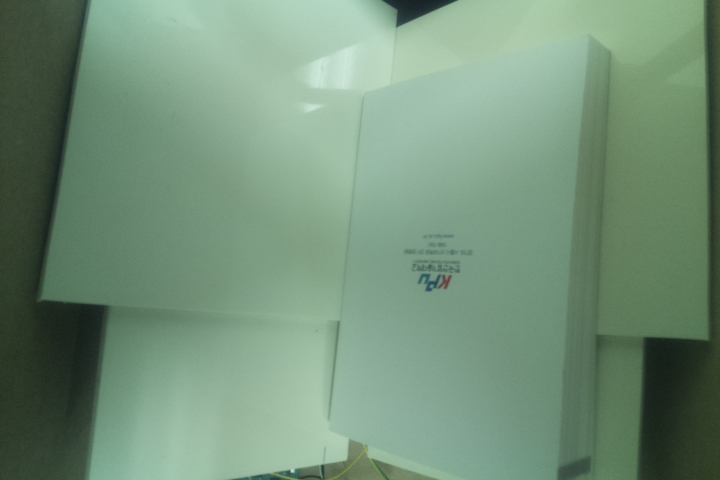book: (326, 33, 615, 480)
